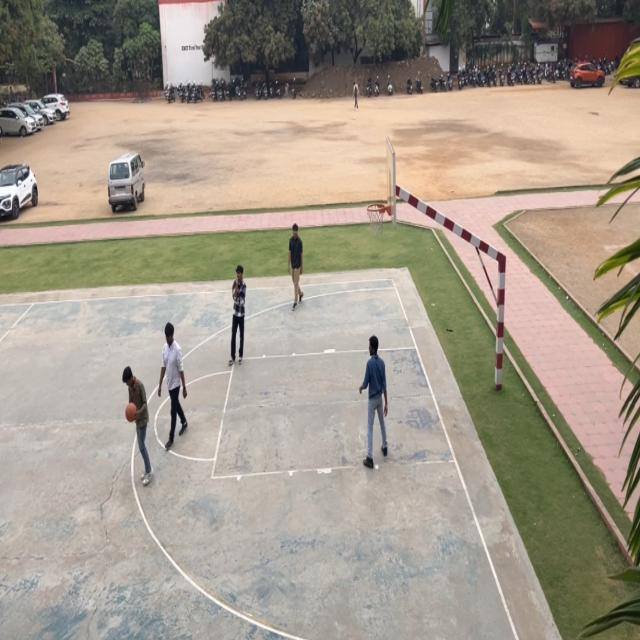basketball: (124, 400, 138, 429)
hoop: (366, 199, 386, 240)
